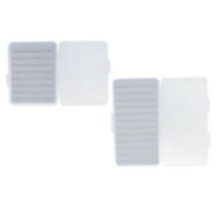foam_box: (106, 72, 214, 174), (1, 37, 115, 110)
